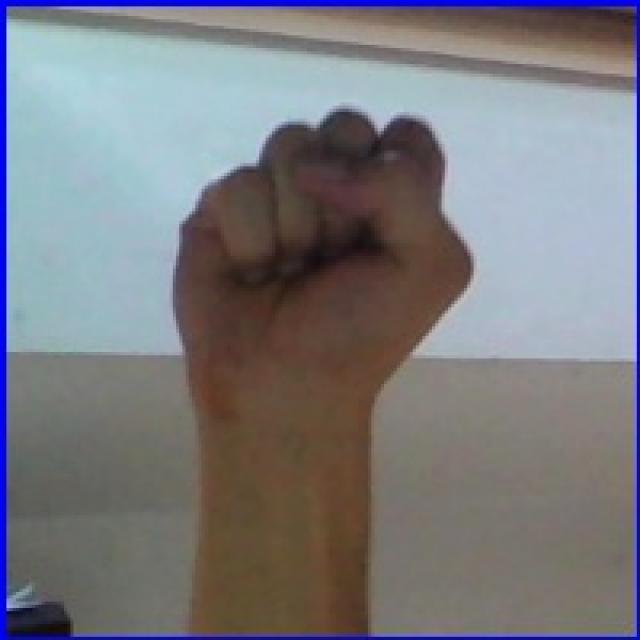Letra-S: (131, 91, 497, 439)
